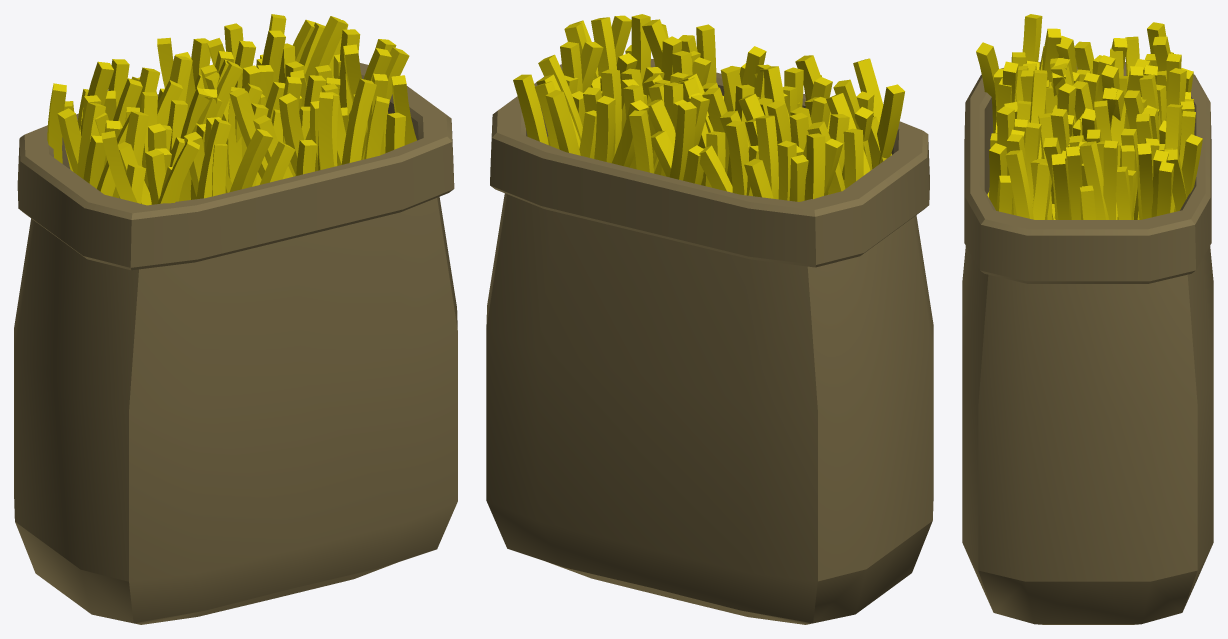
The model's file is phamqu19_HranclPytel.fbx.
The picture shows the model from 3 angles, left to right: view 1: azimuth 30°, elevation 25°; view 2: azimuth 150°, elevation 25°; view 3: azimuth 270°, elevation 25°; orthographic projection. The views are drawn at different scales.
Parts seen in each view (by area): view 1: Bag, Fries; view 2: Bag, Fries; view 3: Bag, Fries.
Part boxes in pixels (<box>): Bag: <box>14,63,457,624</box>; Fries: <box>47,14,416,205</box>; Bag: <box>486,59,933,624</box>; Fries: <box>513,14,904,201</box>; Bag: <box>962,62,1213,624</box>; Fries: <box>976,14,1202,219</box>.
Size of the model in its own units: 25.61 by 32.65 by 15.49.
